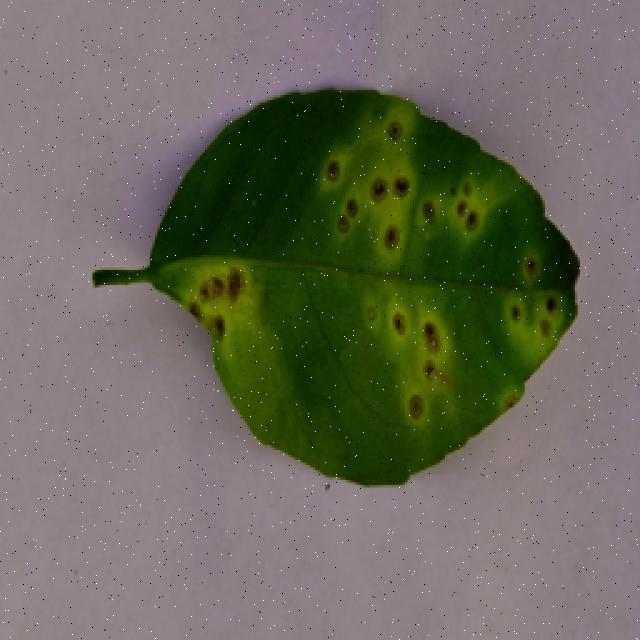canker: (166, 89, 570, 488)
